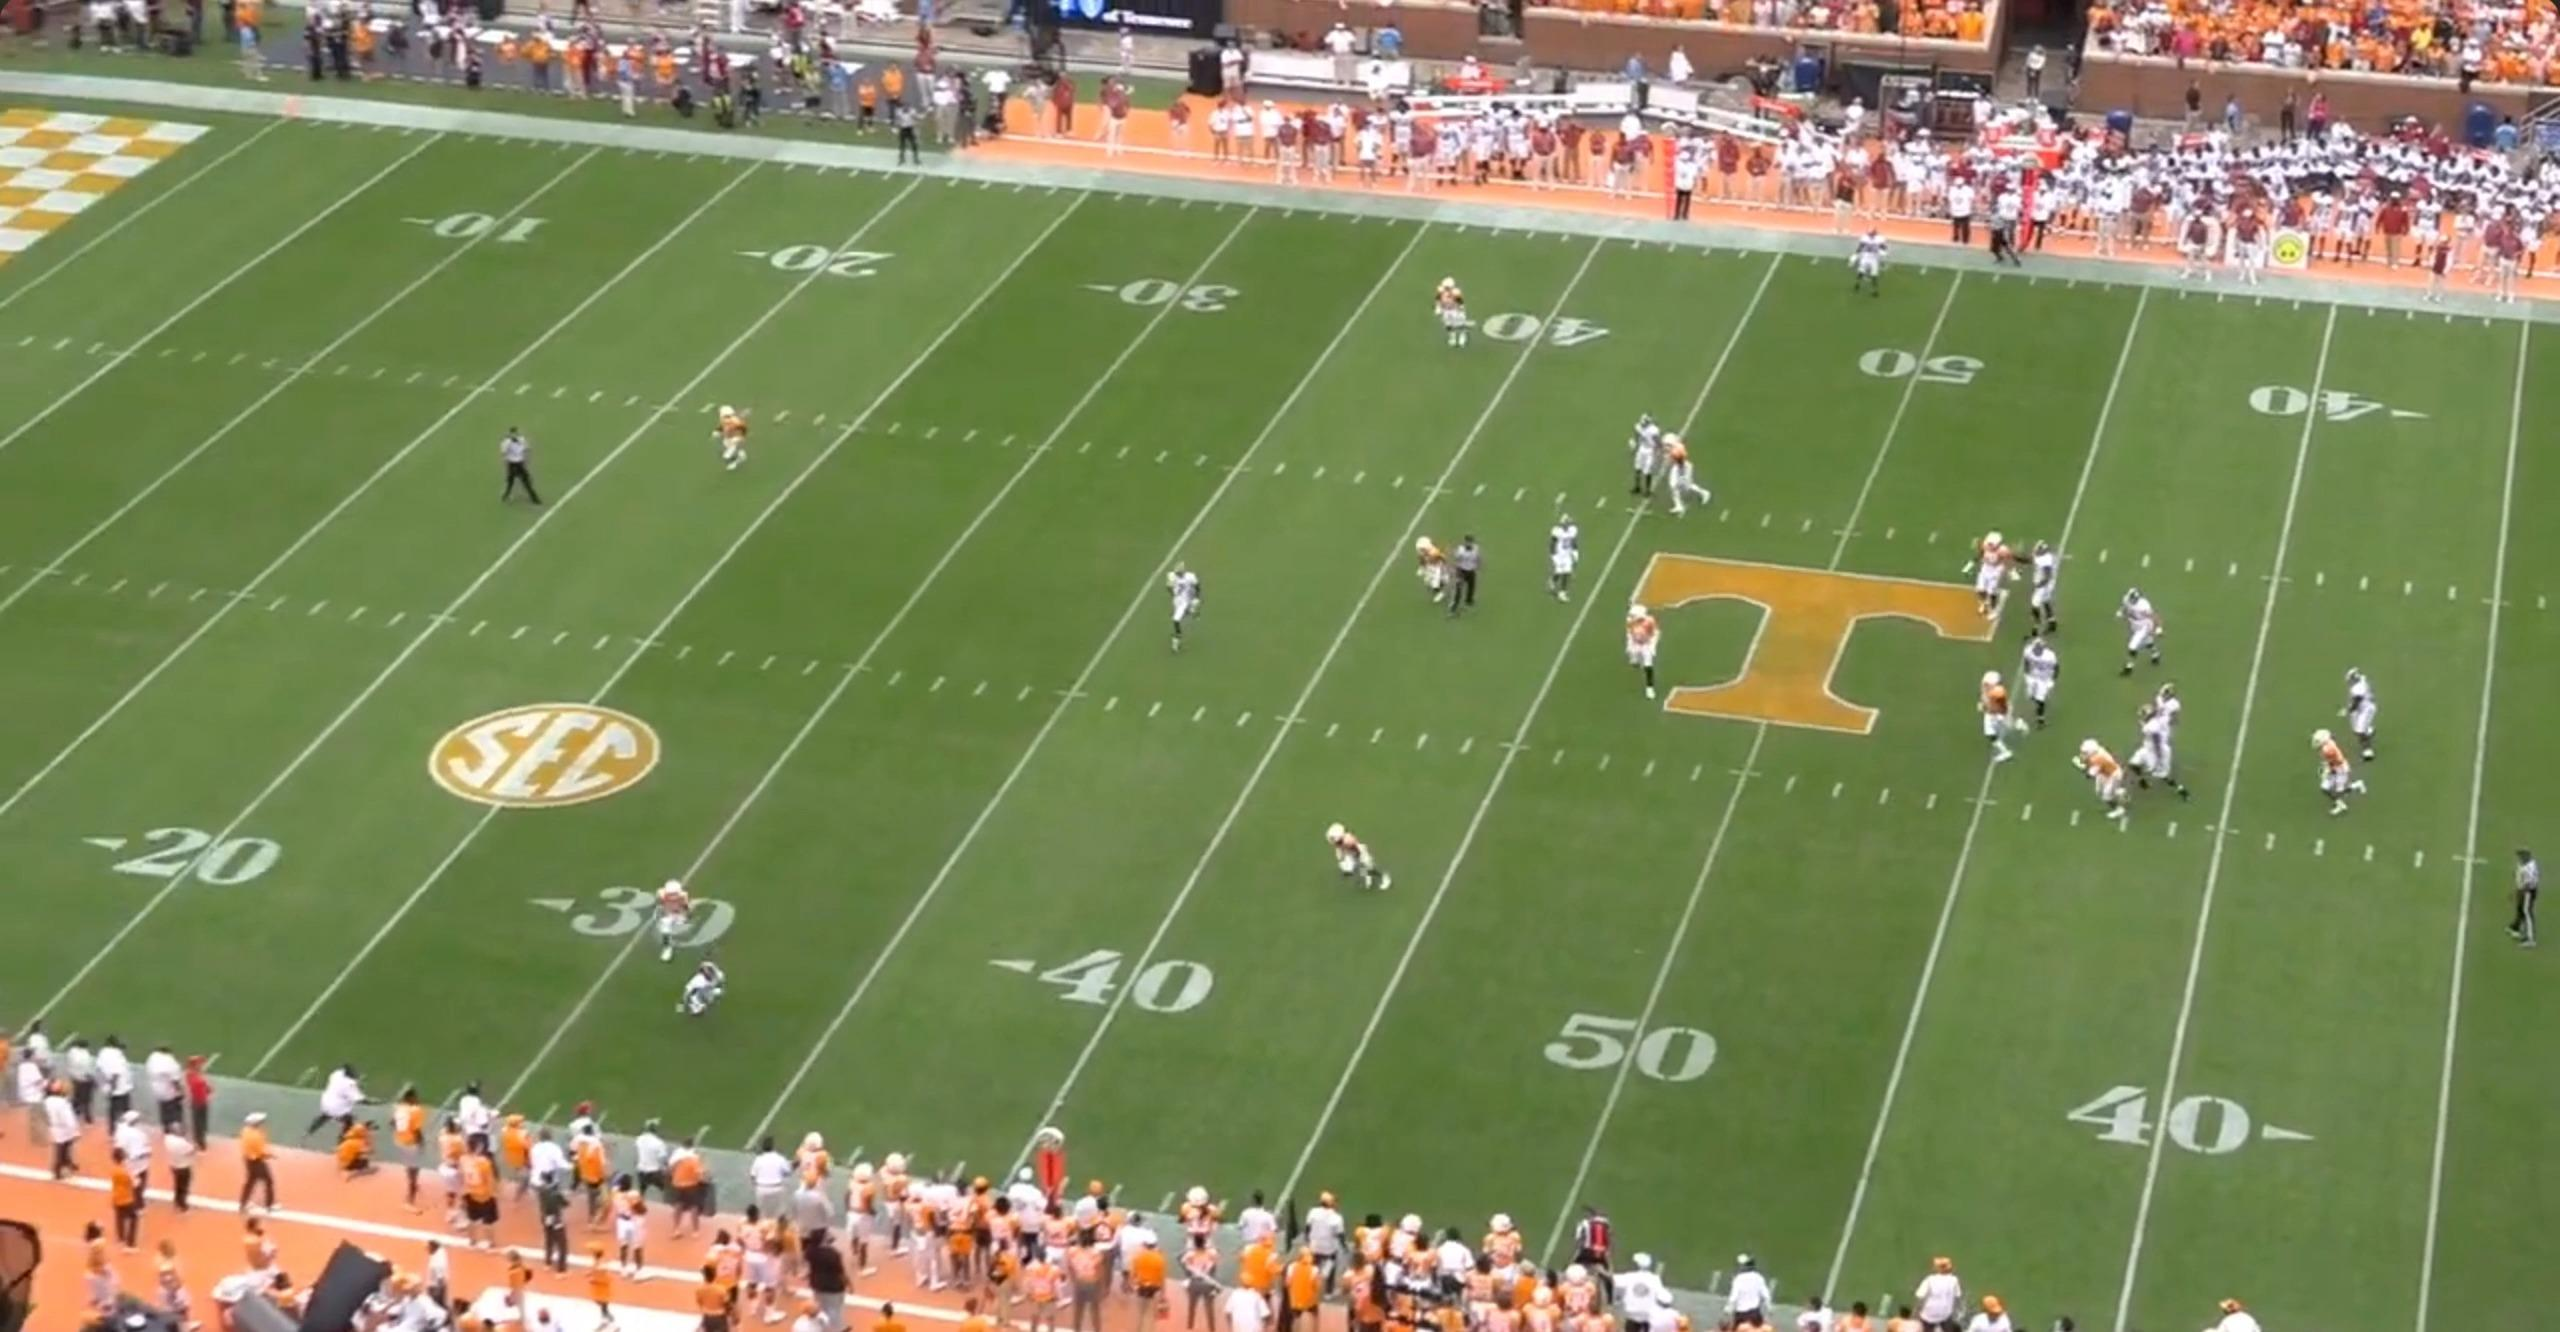player: (2133, 709, 2199, 804), (1641, 428, 1709, 518), (2314, 727, 2375, 824), (2071, 737, 2136, 826), (1320, 823, 1392, 898), (652, 874, 710, 965), (2117, 586, 2169, 680), (1972, 669, 2019, 769), (2026, 536, 2070, 640), (1626, 600, 1669, 706), (1974, 529, 2020, 627), (678, 957, 740, 1029), (1162, 559, 1207, 657), (2339, 665, 2383, 765), (2017, 637, 2060, 738), (1627, 409, 1673, 503), (1542, 507, 1581, 605), (1413, 532, 1459, 612), (1850, 225, 1893, 305), (1431, 272, 1475, 347), (712, 399, 755, 474), (2151, 682, 2179, 743)
ref: (2500, 845, 2544, 952), (1978, 189, 2032, 275), (1446, 531, 1492, 624), (497, 425, 544, 511), (886, 96, 924, 169)
